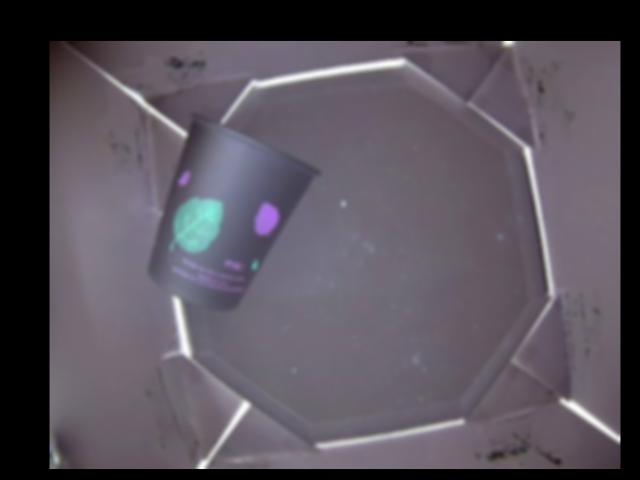Cup: (146, 107, 320, 313)
